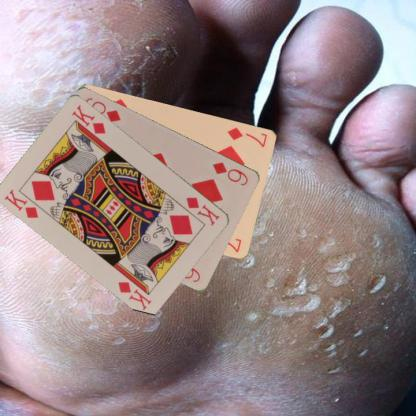6d: (209, 159, 250, 187)
7d: (224, 124, 268, 149)
Kd: (184, 194, 221, 228), (2, 186, 40, 219)
